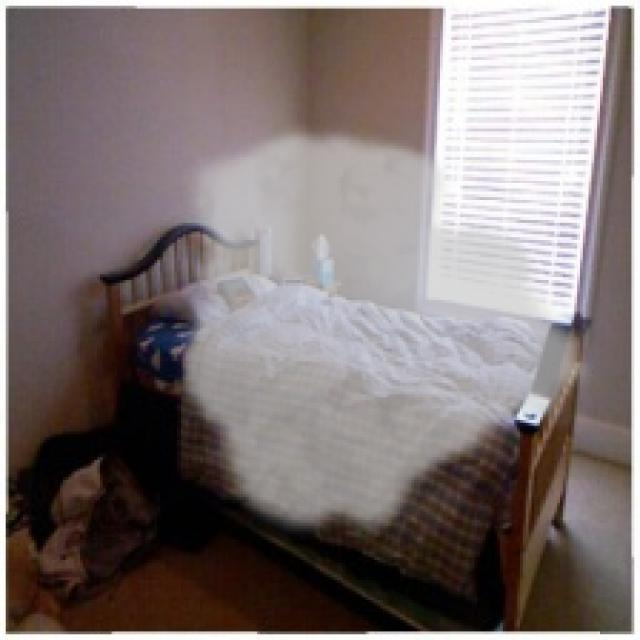Smoke: (174, 123, 597, 546)
